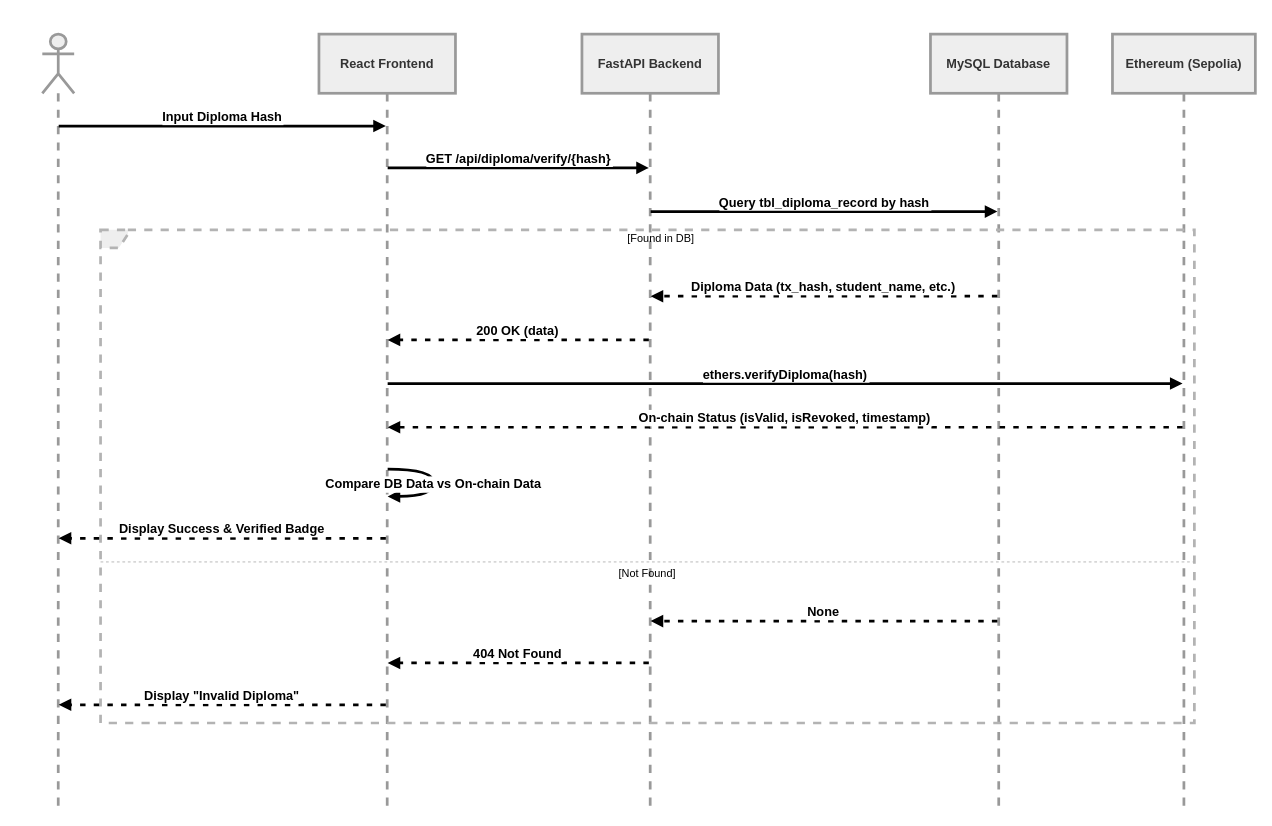
Image size: 1272x826. Some labels were removed from this diagram. The box of each missing label's shape, as (x1, y1, x2, y2) in pixels:
alt: (99, 228, 1195, 724)
Public/Verifier: (40, 32, 75, 810)
